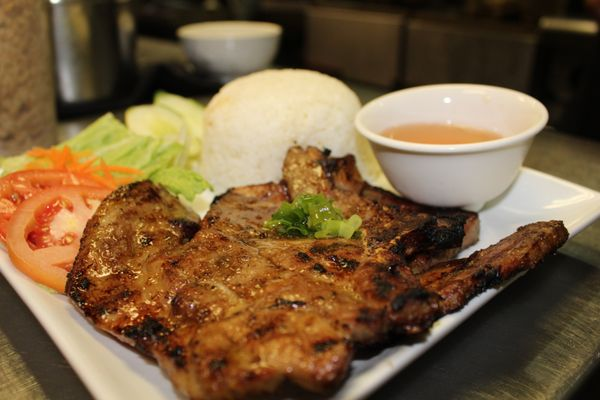curry: (265, 193, 362, 239)
soup: (199, 66, 362, 193)
sushi: (352, 81, 549, 212), (176, 18, 284, 79)
